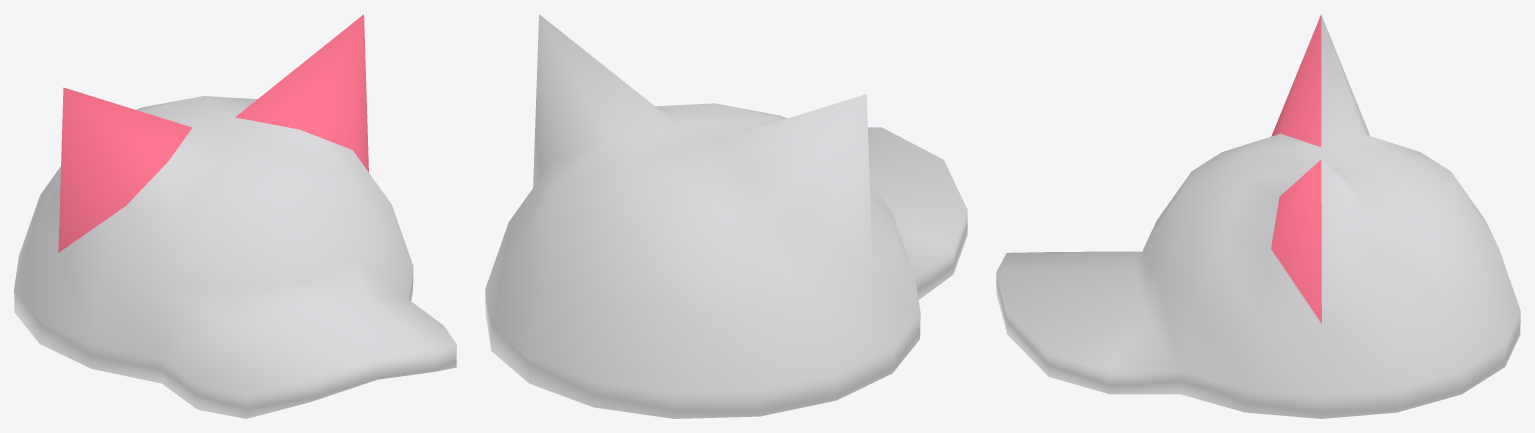
The model's file is accessory-catbaseballcap.glb.
The picture shows the model from 3 angles, left to right: view 1: azimuth 30°, elevation 25°; view 2: azimuth 150°, elevation 25°; view 3: azimuth 270°, elevation 25°; orthographic projection. The views are drawn at different scales.
Parts seen in each view (by area): view 1: accessory__JA_m_Hat71__0; view 2: accessory__JA_m_Hat71__0; view 3: accessory__JA_m_Hat71__0.
Part boxes in pixels (x1,y1,x2,y2): accessory__JA_m_Hat71__0: [14, 14, 456, 418]; accessory__JA_m_Hat71__0: [485, 14, 967, 418]; accessory__JA_m_Hat71__0: [996, 14, 1520, 418].
Bounding box in the file's own units: 0.5373 × 0.3689 × 0.7064.
